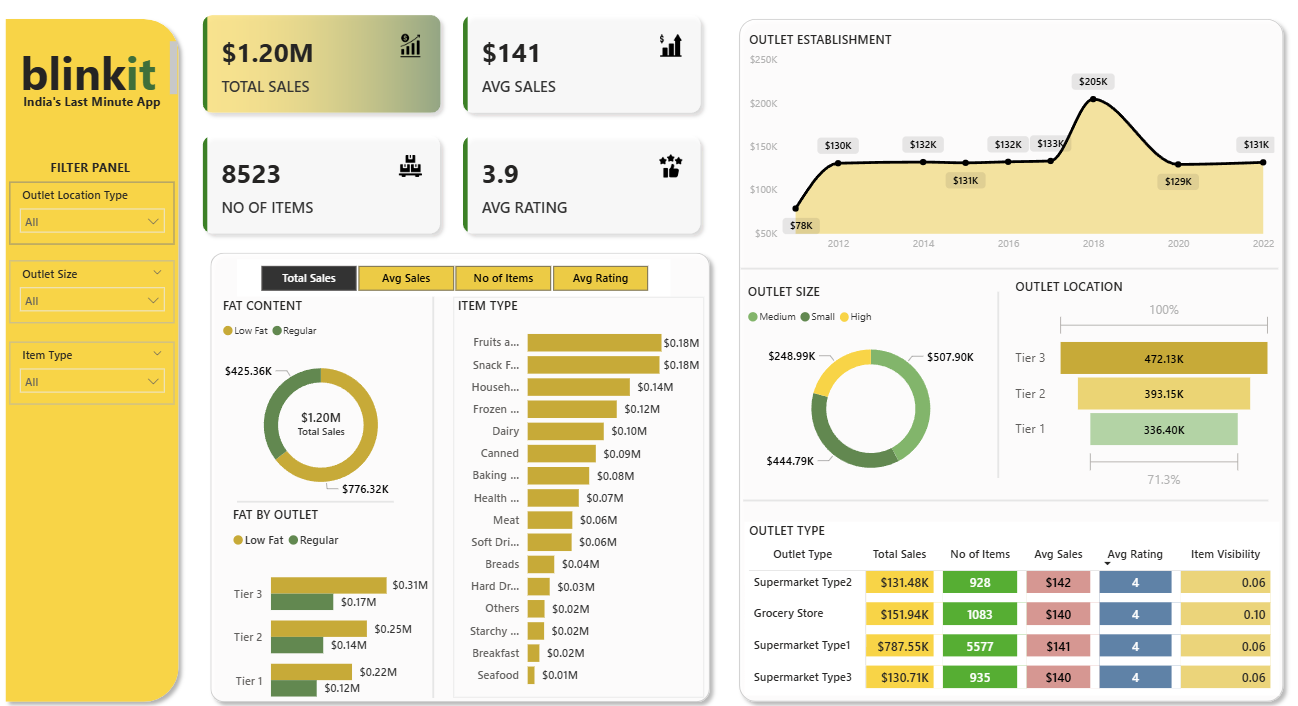

This screenshot's page, from the dashboard's own definition file:
{"tool":"powerbi","page":{"name":"Page 1","canvas":[1400,800],"ordinal":0},"visuals":[{"type":"shape","box":[0,24.1,203.8,750.7],"z":0},{"type":"textbox","box":[5.4,52.3,193,77.7],"z":1000},{"type":"textbox","box":[13.4,107.2,176.9,38.9],"z":2000},{"type":"cardVisual","fields":{"Data":["BlinkIT Grocery Data.Total Sales","BlinkIT Grocery Data.Avg Sales","BlinkIT Grocery Data.No of Items","BlinkIT Grocery Data.Avg Rating"]},"box":[203.8,12.1,569.7,269.4],"z":3000},{"type":"shape","box":[219.8,274.8,553.6,500],"z":4000},{"type":"donutChart","title":"FAT CONTENT","fields":{"Y":["BlinkIT Grocery Data.Total Sales"],"Category":["BlinkIT Grocery Data.Item Fat Content"]},"box":[237.3,331.1,219.8,230.6],"z":5000},{"type":"slicer","fields":{"Values":["Metrics.Metrics"]},"box":[257.4,290.9,465.1,40.2],"z":6000},{"type":"cardVisual","fields":{"Data":["BlinkIT Grocery Data.Total Sales"]},"box":[301.6,433,92.5,67],"z":7000},{"type":"clusteredBarChart","title":"FAT BY OUTLET","fields":{"Y":["BlinkIT Grocery Data.Total Sales"],"Category":["BlinkIT Grocery Data.Outlet Location Type"],"Series":["BlinkIT Grocery Data.Item Fat Content"]},"box":[248,555,219.8,230.6],"z":8000},{"type":"shape","box":[445,331.1,45.6,430.3],"z":9000},{"type":"shape","box":[257.4,546.9,168.9,8],"z":10000},{"type":"barChart","title":"ITEM TYPE","fields":{"Y":["BlinkIT Grocery Data.Total Sales"],"Category":["BlinkIT Grocery Data.Item Type"]},"box":[489.3,331.1,269.4,430.3],"z":11000},{"type":"shape","box":[786.9,24.1,601.9,750.7],"z":12000},{"type":"lineChart","title":"OUTLET ESTABLISHMENT","fields":{"Category":["BlinkIT Grocery Data.Outlet Establishment Year"],"Y":["BlinkIT Grocery Data.Total Sales"]},"box":[801.6,45.6,573.7,245.3],"z":13000},{"type":"shape","box":[797.6,276.1,576.4,49.6],"z":14000},{"type":"donutChart","title":"OUTLET SIZE","fields":{"Y":["BlinkIT Grocery Data.Total Sales"],"Category":["BlinkIT Grocery Data.Outlet Size"]},"box":[800.3,316.4,273.5,225.2],"z":15000},{"type":"shape","box":[1050.9,325.7,45.6,199.7],"z":16000},{"type":"funnel","title":"OUTLET LOCATION","fields":{"Y":["Sum(BlinkIT Grocery Data.Sales)"],"Category":["BlinkIT Grocery Data.Outlet Location Type"]},"box":[1087.1,311,285.5,230.6],"z":17000},{"type":"shape","box":[800.3,526.8,563,45.6],"z":18000},{"type":"pivotTable","title":"OUTLET TYPE","fields":{"Rows":["BlinkIT Grocery Data.Outlet Type"],"Values":["BlinkIT Grocery Data.Total Sales","BlinkIT Grocery Data.No of Items","BlinkIT Grocery Data.Avg Sales","BlinkIT Grocery Data.Avg Rating","Avg(BlinkIT Grocery Data.Item Visibility)"]},"box":[801.6,572.4,573.7,186.3],"z":19000},{"type":"slicer","fields":{"Values":["BlinkIT Grocery Data.Outlet Location Type"]},"box":[13.4,207.8,176.9,67],"z":20000},{"type":"slicer","fields":{"Values":["BlinkIT Grocery Data.Outlet Size"]},"box":[13.4,292.2,176.9,67],"z":20001},{"type":"slicer","fields":{"Values":["BlinkIT Grocery Data.Item Type"]},"box":[13.4,379.4,176.9,67],"z":20002},{"type":"textbox","box":[52.3,178.3,119.3,29.5],"z":20003}]}

Visuals, with their boxes on the page's 1400x800 design canvas (x1, y1, x2, y2). These are canvas units, not pixel positions in the 1298x706 screenshot, which may show the page scaled, cropped or inside an application window:
shape: detection(0, 24, 204, 775)
textbox: detection(5, 52, 198, 130)
textbox: detection(13, 107, 190, 146)
cardVisual - BlinkIT Grocery Data.Total Sales x BlinkIT Grocery Data.Avg Sales: detection(204, 12, 774, 282)
shape: detection(220, 275, 773, 775)
"FAT CONTENT" donutChart: detection(237, 331, 457, 562)
slicer - Metrics.Metrics: detection(257, 291, 722, 331)
cardVisual - BlinkIT Grocery Data.Total Sales: detection(302, 433, 394, 500)
"FAT BY OUTLET" clusteredBarChart: detection(248, 555, 468, 786)
shape: detection(445, 331, 491, 761)
shape: detection(257, 547, 426, 555)
"ITEM TYPE" barChart: detection(489, 331, 759, 761)
shape: detection(787, 24, 1389, 775)
"OUTLET ESTABLISHMENT" lineChart: detection(802, 46, 1375, 291)
shape: detection(798, 276, 1374, 326)
"OUTLET SIZE" donutChart: detection(800, 316, 1074, 542)
shape: detection(1051, 326, 1096, 525)
"OUTLET LOCATION" funnel: detection(1087, 311, 1373, 542)
shape: detection(800, 527, 1363, 572)
"OUTLET TYPE" pivotTable: detection(802, 572, 1375, 759)
slicer - BlinkIT Grocery Data.Outlet Location Type: detection(13, 208, 190, 275)
slicer - BlinkIT Grocery Data.Outlet Size: detection(13, 292, 190, 359)
slicer - BlinkIT Grocery Data.Item Type: detection(13, 379, 190, 446)
textbox: detection(52, 178, 172, 208)
